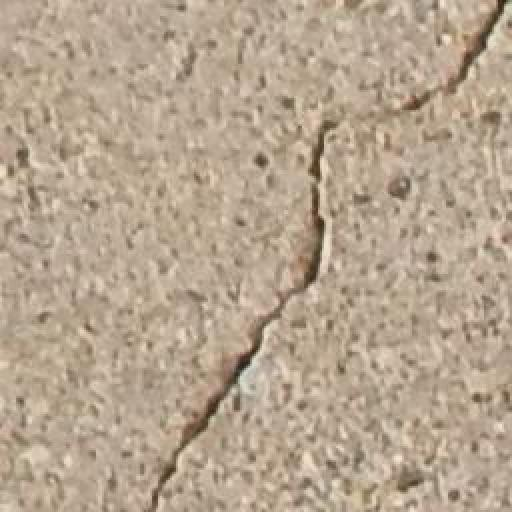spalling: (131, 6, 509, 512)
